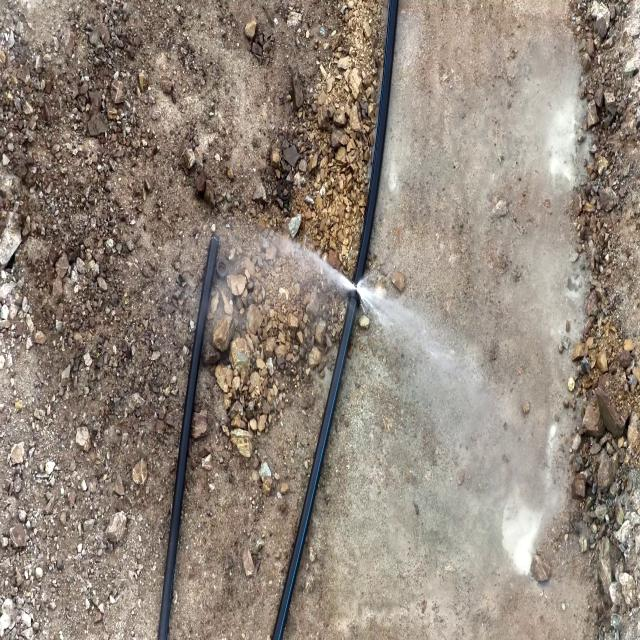leak: (266, 223, 411, 353)
